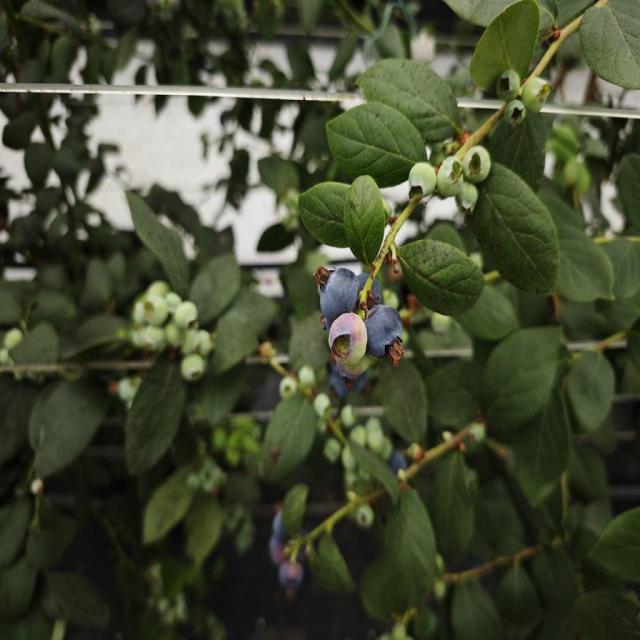RipeBlueBerry: (316, 263, 362, 321), (367, 304, 407, 364)
Semi-RipeBlueBerry: (328, 310, 368, 370)
